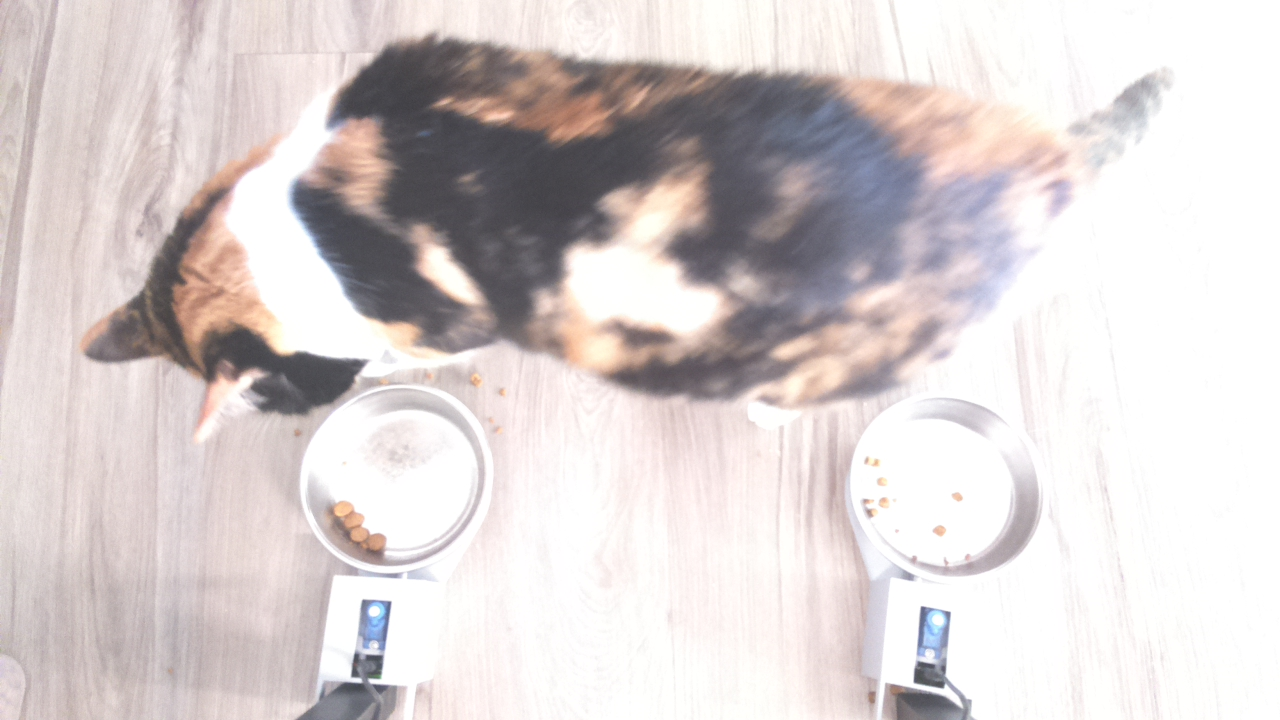bella: (85, 177, 357, 428)
open_bowl: (847, 386, 1052, 591), (300, 387, 492, 576)
